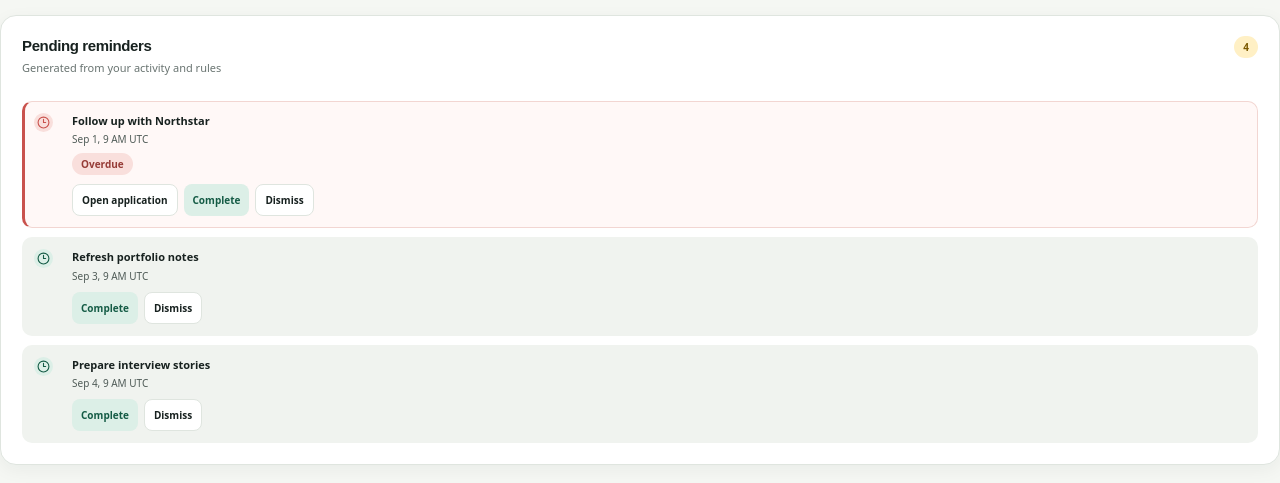
Test: DashboardReminders › completes a reminder and immediately promotes the next pending item
This screenshot has width=1280, height=483.
Expected: the text "Review salary range" is not shown
Step 1. Click the button with aria-label "Complete Follow up with Northstar" → (216, 200), box [184,184,249,216]
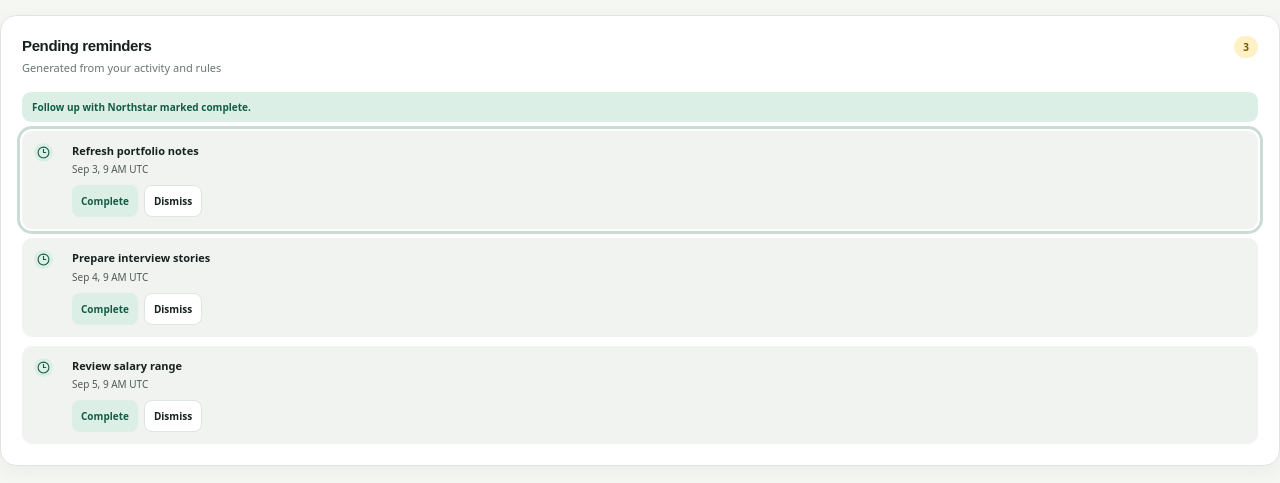
Now the text "Review salary range" is shown, box [72,358,182,372]
Now the text named "3 pending reminders" is shown, box [1234,36,1258,58]
Now the text "Follow up with Northstar marked complete." is shown, box [22,92,1258,122]
